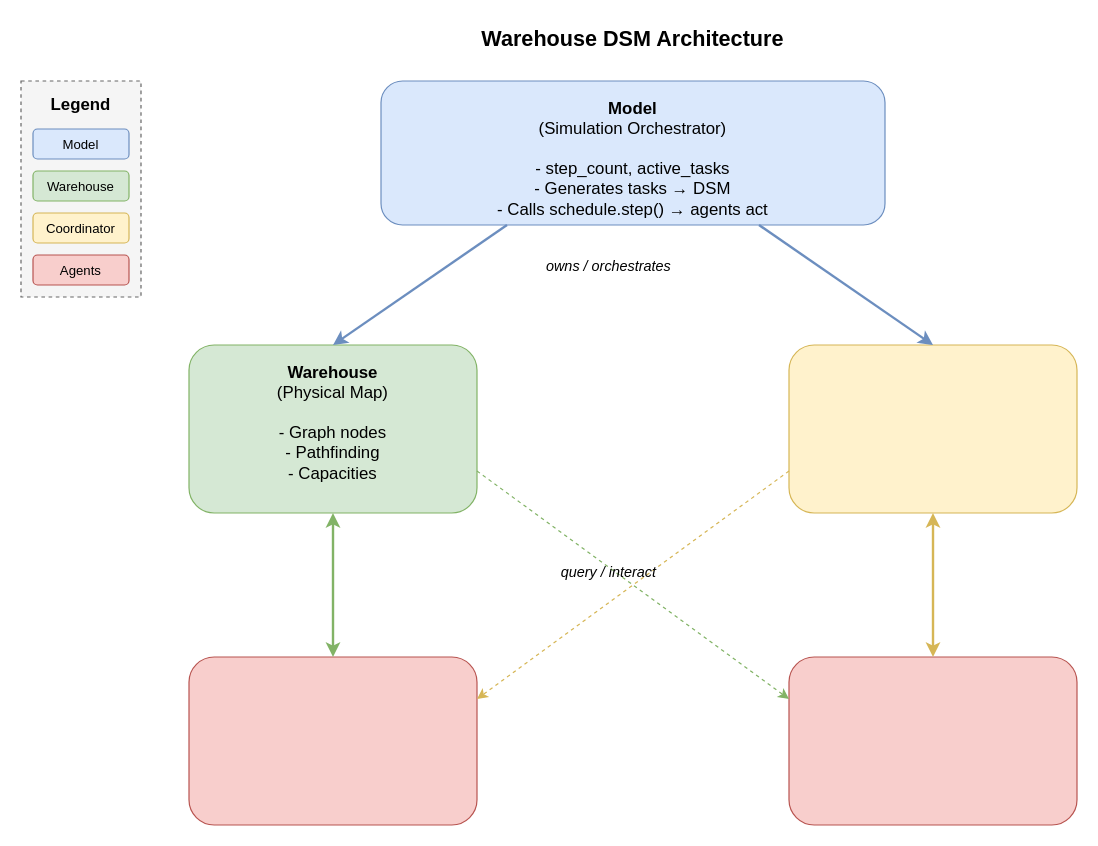
The diagram is 1098 pixels wide and 846 high, and some of its shapes have lost their labels. Here are the shapes that lost their labels. From the top down, the box of each, then its label:
(788, 344, 1077, 513): Coordinator (Control Plane) - TaskRegistry - LeaseManager - WatchManager
(188, 656, 477, 825): Agent 0 - node=15 - state=IDLE - Plan path - Claim tasks
(788, 656, 1077, 825): Agent 1 ... N - node=42 - state=WORKING - Plan path - Claim tasks
